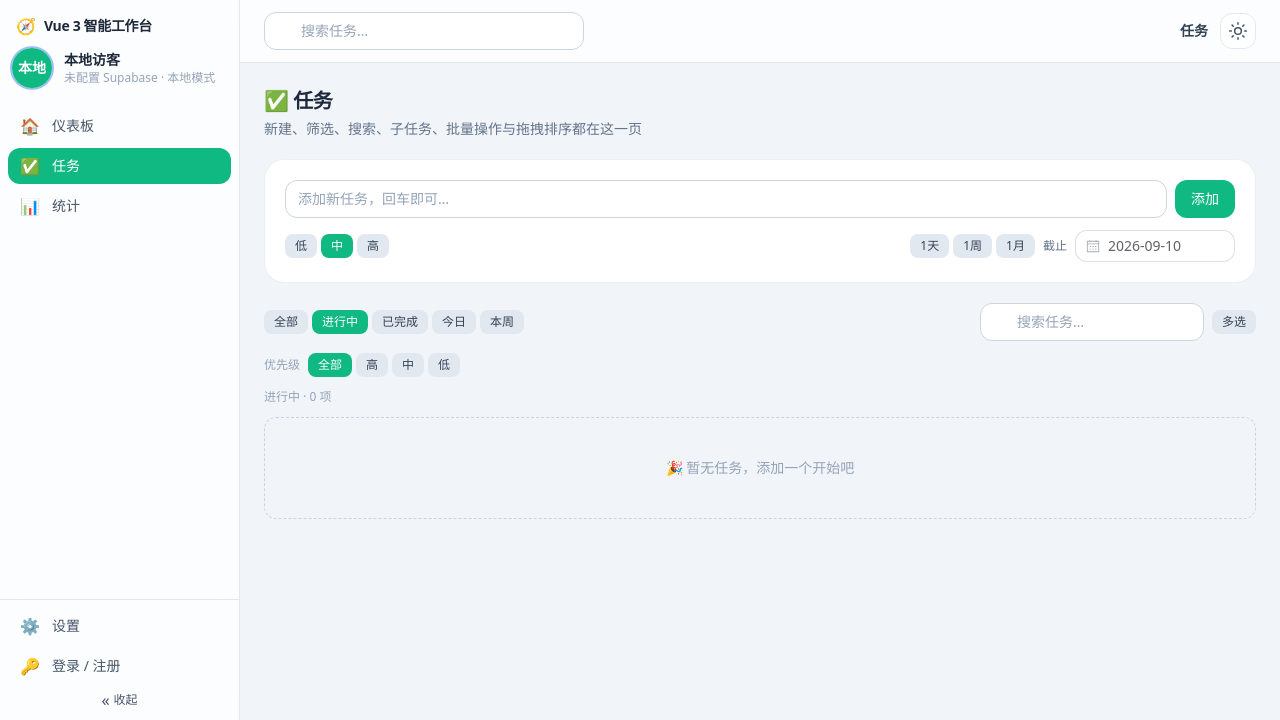
Test: App 集成（第五阶段：路由拆分后的整体装配） › 任务页：通过表单添加任务后列表出现该任务
Type "集成测试任务" into the field with placeholder "添加新任务，回车即可…" at (726, 199), box [285,180,1167,218]
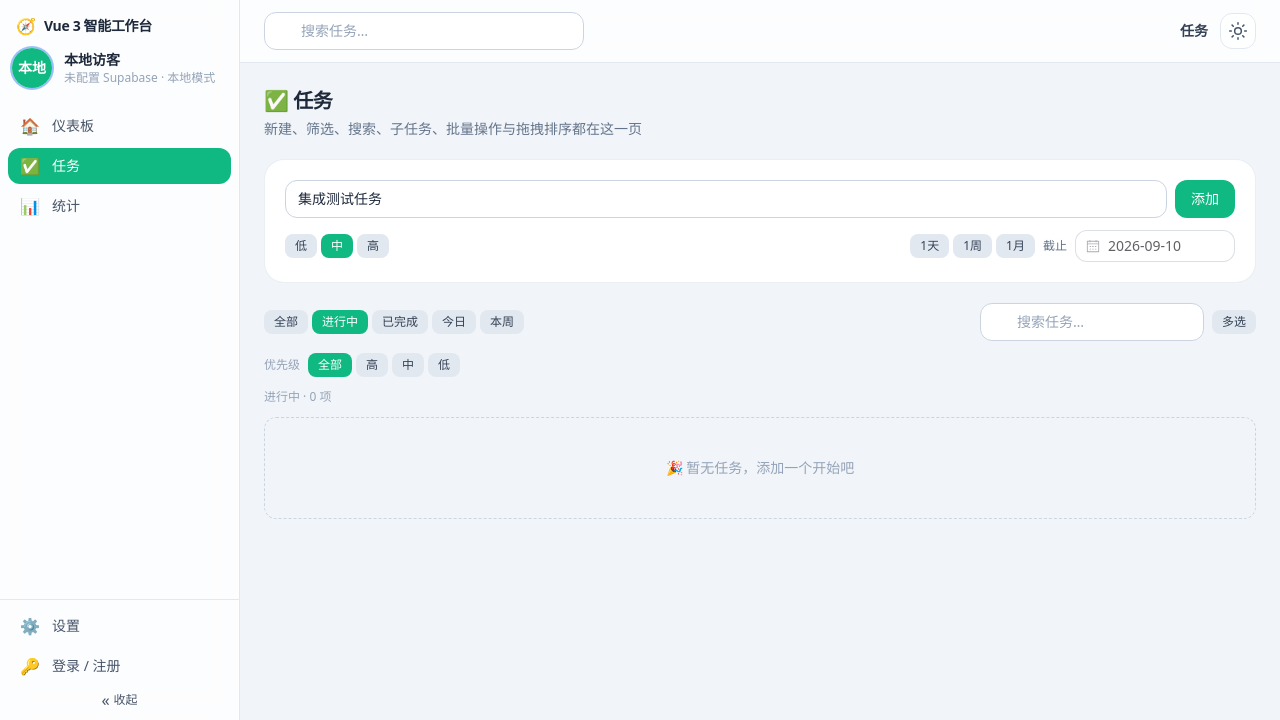
Submit the form, box [285,180,1235,262]
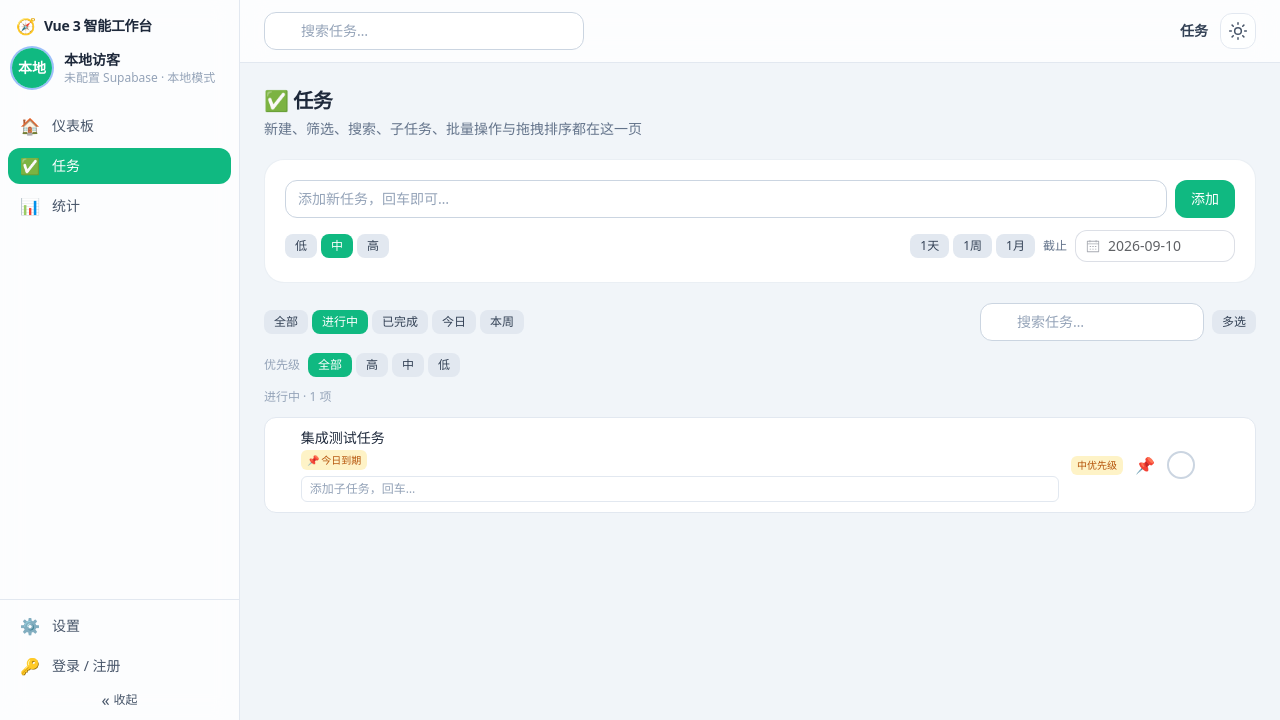
Expected: the text "集成测试任务" is shown, [301,428,385,447]
Expected: the text "进行中 · 1 项" is shown, [264,388,332,405]
